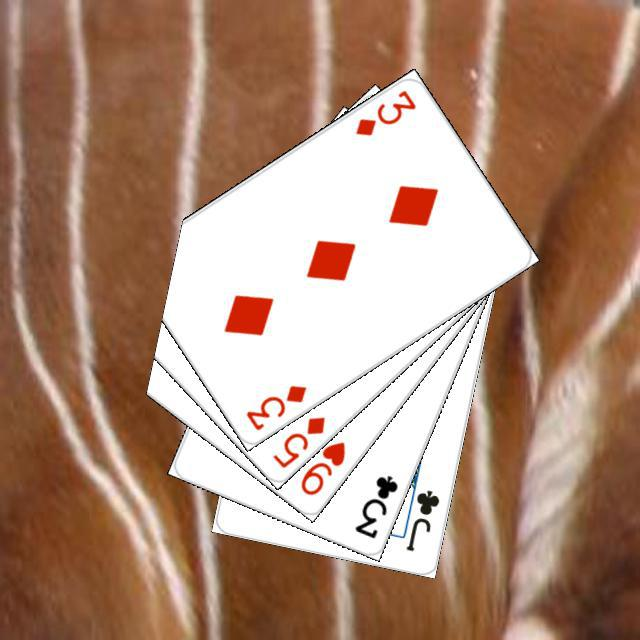3c: (349, 470, 400, 540)
3d: (350, 84, 418, 138), (241, 380, 309, 432)
5d: (267, 411, 327, 470)
9h: (295, 436, 348, 498)
Jc: (401, 485, 441, 553)
